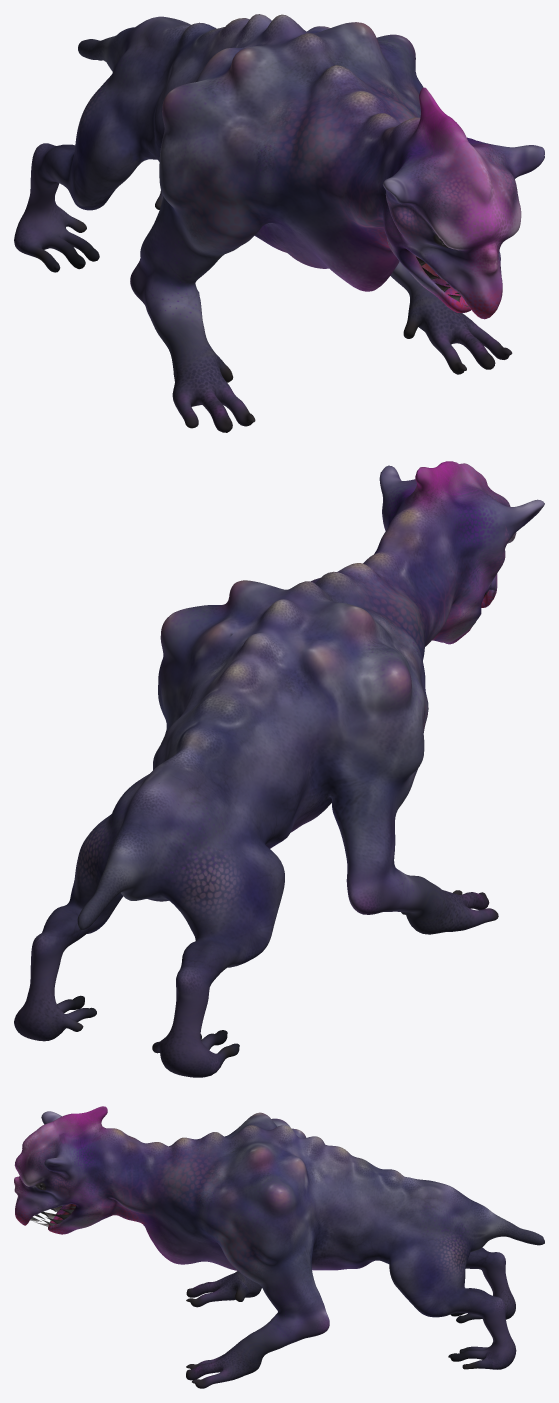
The picture shows the model from 3 angles, top to bottom: view 1: azimuth 30°, elevation 25°; view 2: azimuth 150°, elevation 25°; view 3: azimuth 270°, elevation 25°; orthographic projection. The views are drawn at different scales.
Visible parts, largest first — view 1: homa low poly_default_0; view 2: homa low poly_default_0; view 3: homa low poly_default_0, homa low poly_01 - Default_0.
Part boxes in pixels (x1=…): homa low poly_default_0: x1=14, y1=14, x2=544, y2=432; homa low poly_default_0: x1=14, y1=461, x2=544, y2=1077; homa low poly_default_0: x1=14, y1=1106, x2=544, y2=1388; homa low poly_01 - Default_0: x1=30, y1=1205, x2=75, y2=1226.
Size of the model in its own units: 139 by 153 by 313.
2 materials, 2 textured.
